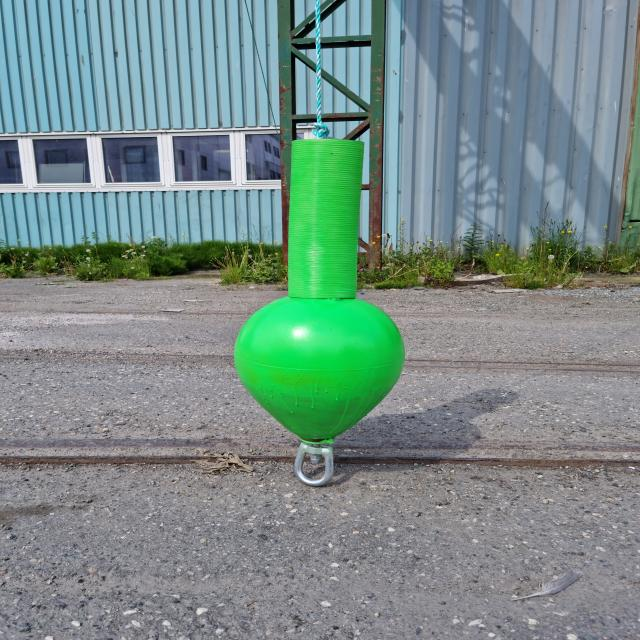green: (233, 139, 404, 442)
